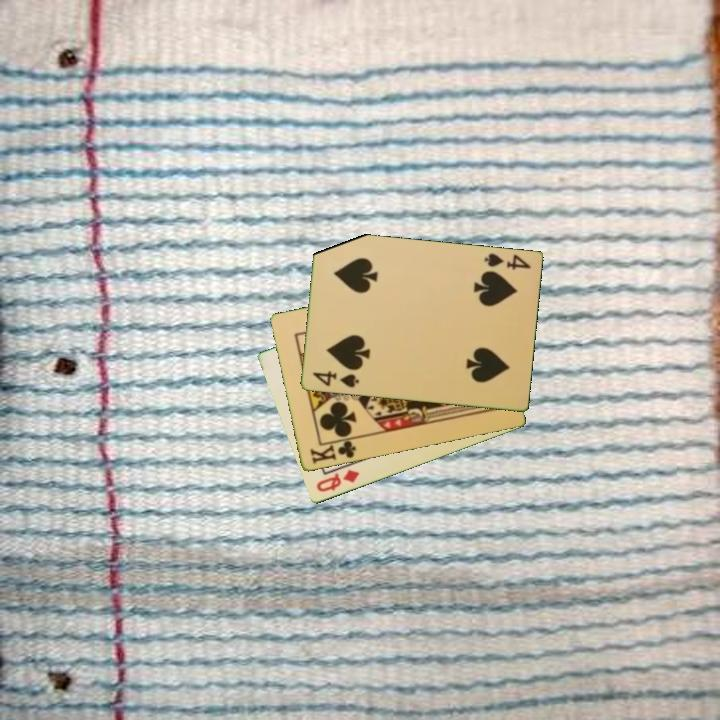4s: (480, 250, 534, 273), (309, 368, 362, 391)
Kc: (306, 435, 359, 467)
Qd: (313, 466, 362, 495)
